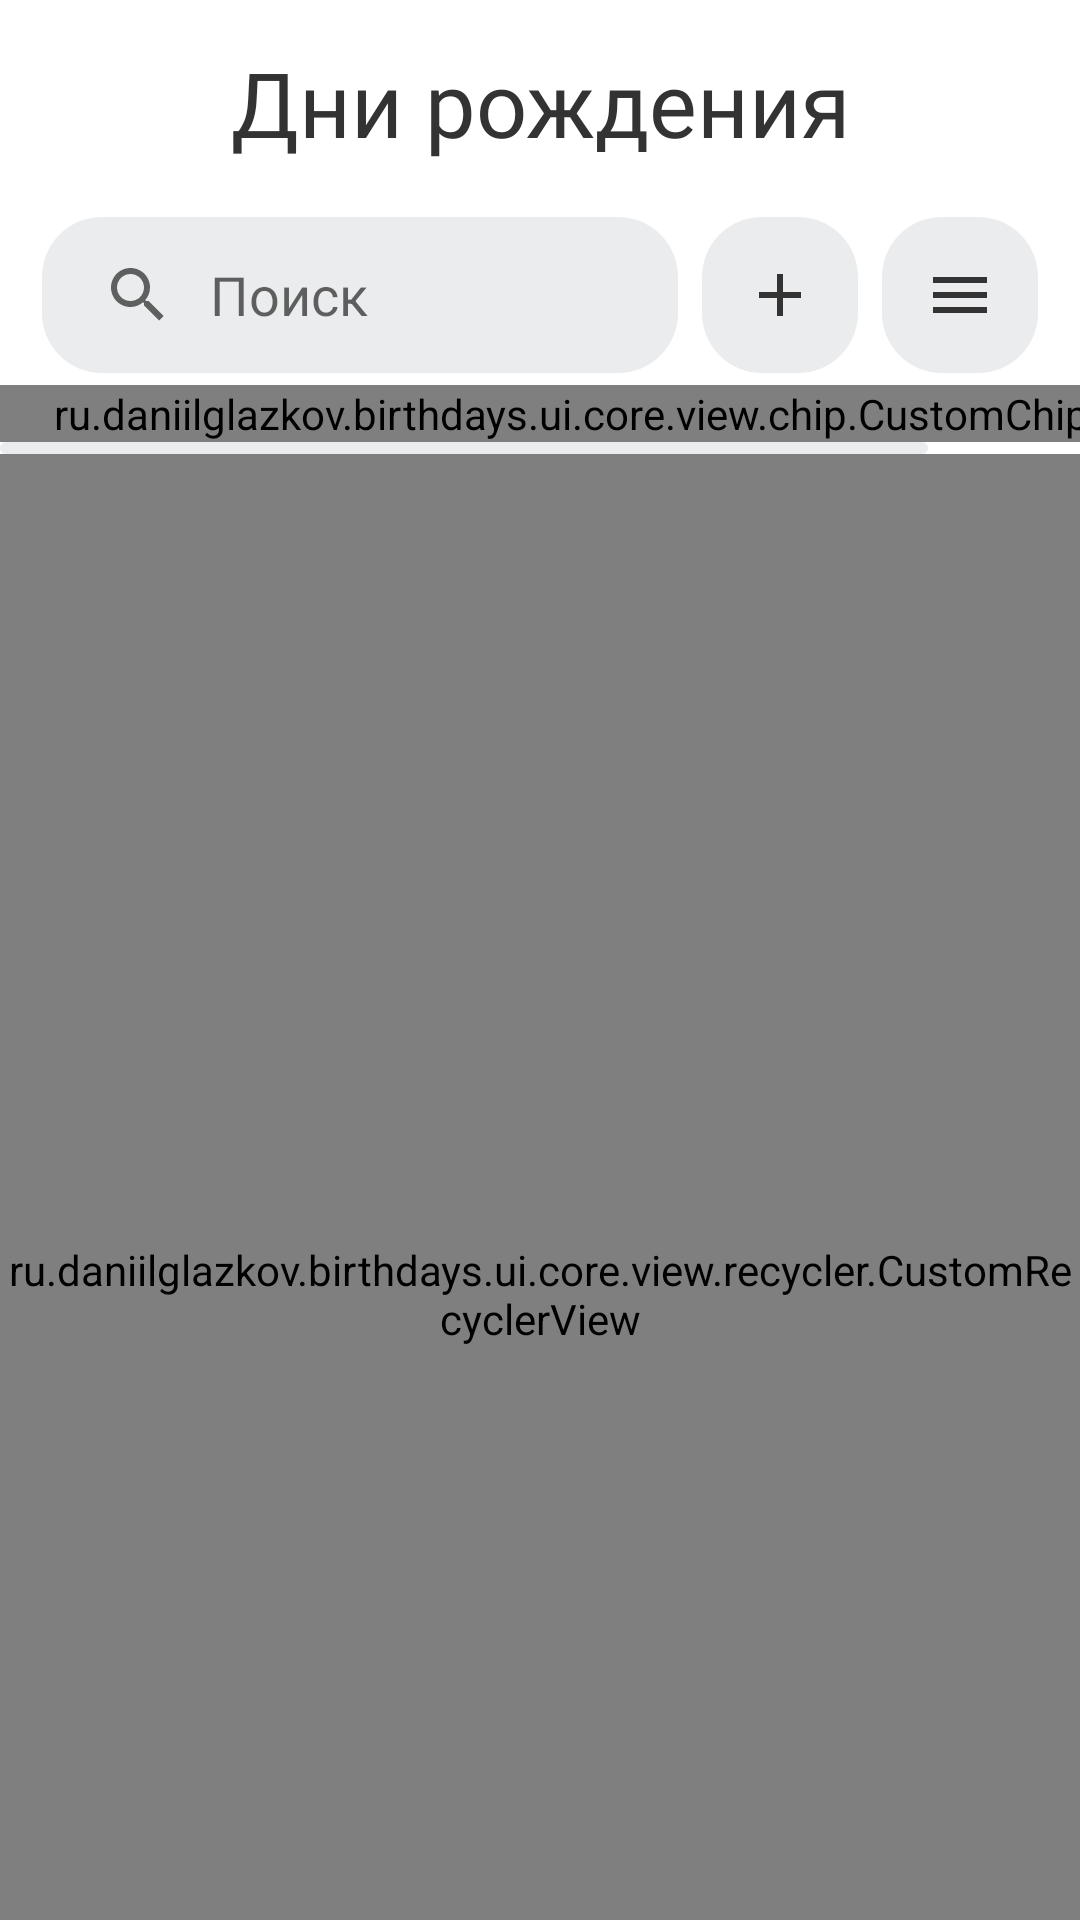

Named icons in this screenshot (1080×1920) and their centers, [x,y]:
Добавить: [780,295]
Меню: [960,295]
